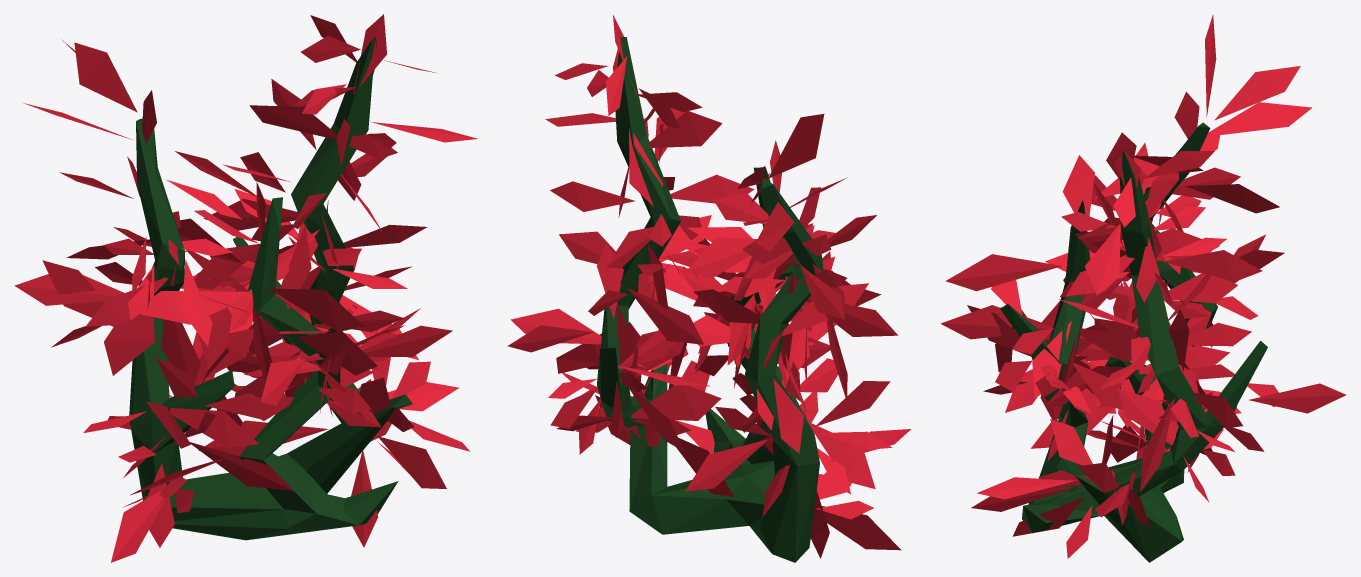
3 renders of one model, left to right at view 1: azimuth 30°, elevation 25°; view 2: azimuth 150°, elevation 25°; view 3: azimuth 270°, elevation 25°, orthographic. The views are drawn at different scales.
Visible parts, largest first — view 1: Krzak3.001; view 2: Krzak3.001; view 3: Krzak3.001.
Part boxes in pixels (box(x1,y1,x2,y2)): Krzak3.001: box(14, 14, 477, 562); Krzak3.001: box(507, 15, 910, 562); Krzak3.001: box(940, 14, 1346, 562).
Bounding box in the file's own units: 1404 × 1749 × 1417.
